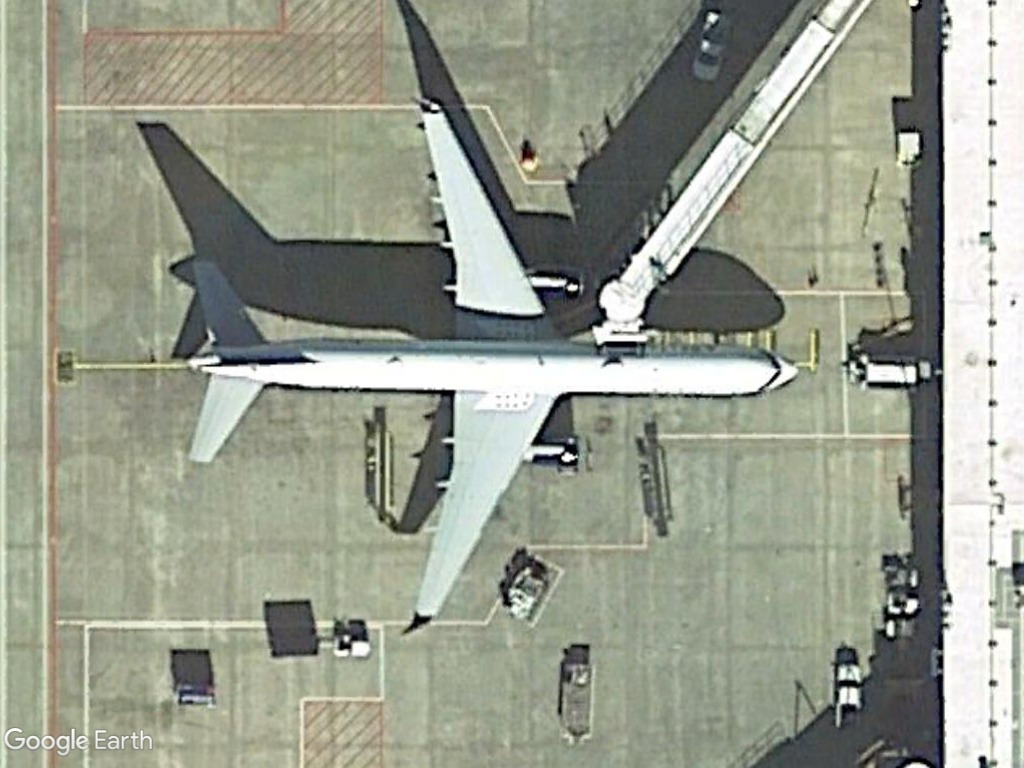airliner: (183, 96, 806, 632)
